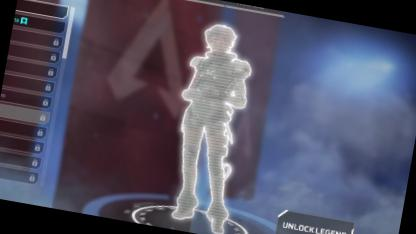Target: (152, 12, 273, 233)
